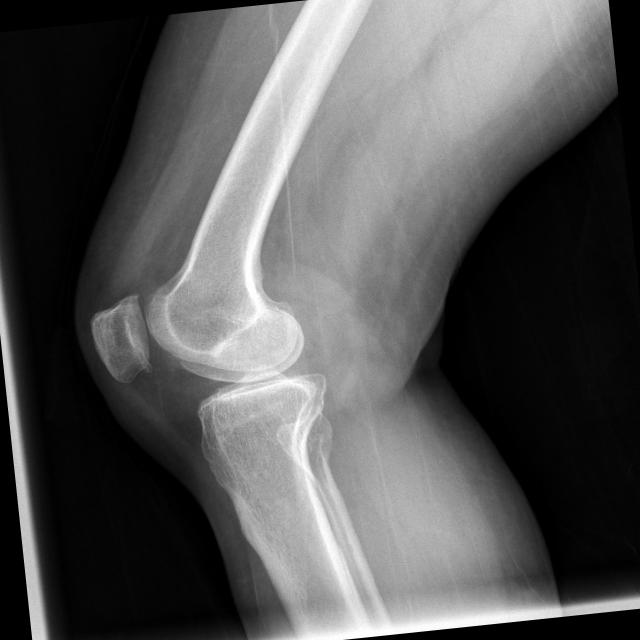Knee: (83, 264, 333, 468)
